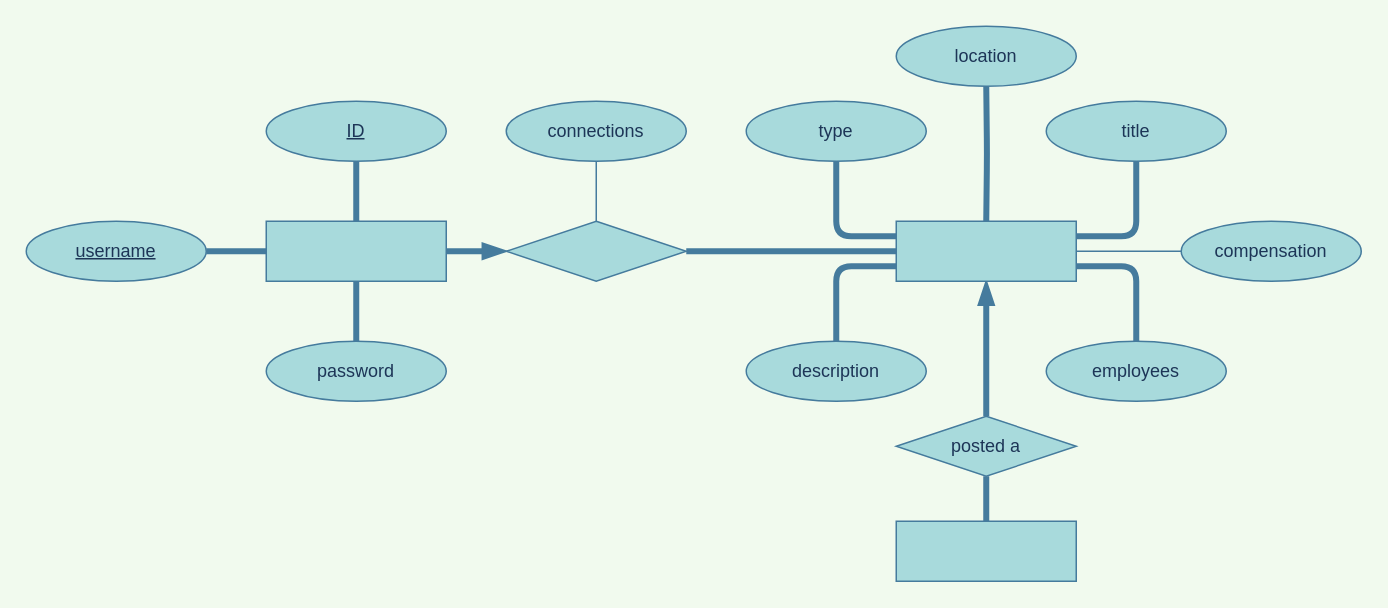
Some shapes in this 1388 by 608 pixel diagram are drawn without their labels. The shapes that lost their labels are listed below. From the top down, each one's box as (x1, y1, x2, y2) in pixels, then its label:
(265, 220, 446, 281): Account
(505, 220, 686, 281): has a
(895, 220, 1076, 281): Job
(895, 520, 1076, 581): Poster
